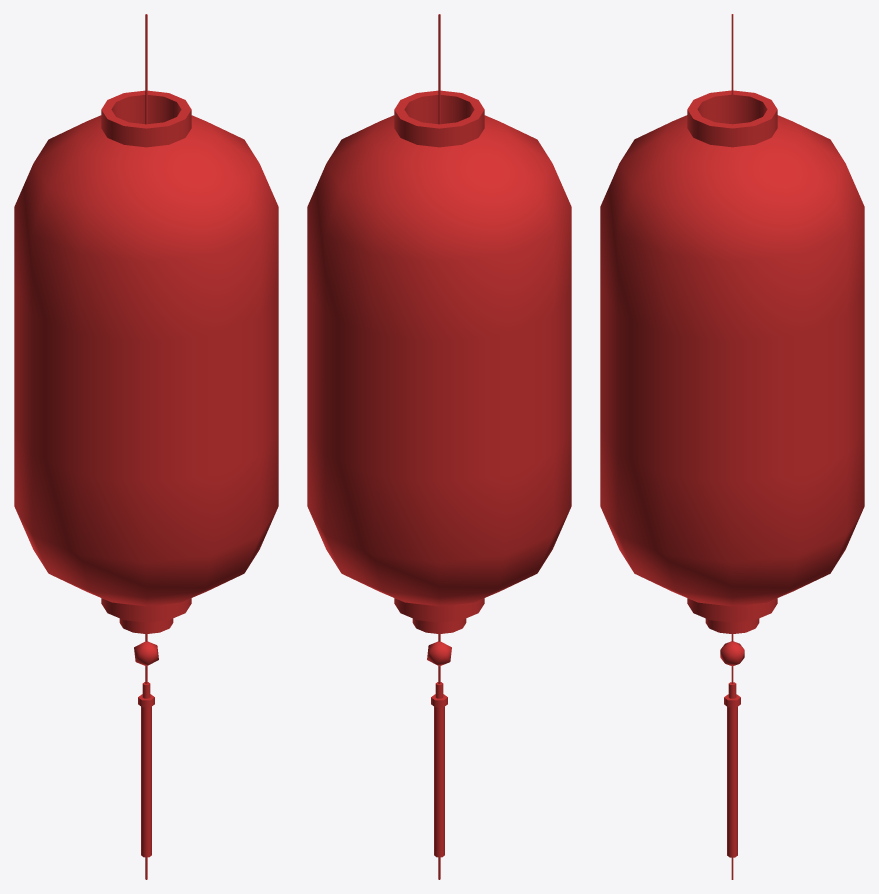
Rendered from lantern.glb.
3 views of the same model, side by side, from view 1: azimuth 30°, elevation 25°; view 2: azimuth 150°, elevation 25°; view 3: azimuth 270°, elevation 25° (orthographic).
Visible parts, largest first — view 1: hd_chineseRedLantern_a_main; view 2: hd_chineseRedLantern_a_main; view 3: hd_chineseRedLantern_a_main.
Boxes of the visible parts, bbox=[...] form: hd_chineseRedLantern_a_main: bbox=[14, 14, 278, 879]; hd_chineseRedLantern_a_main: bbox=[307, 14, 571, 879]; hd_chineseRedLantern_a_main: bbox=[600, 14, 864, 879].
Size of the model in its own units: 2 by 7.23 by 2.
